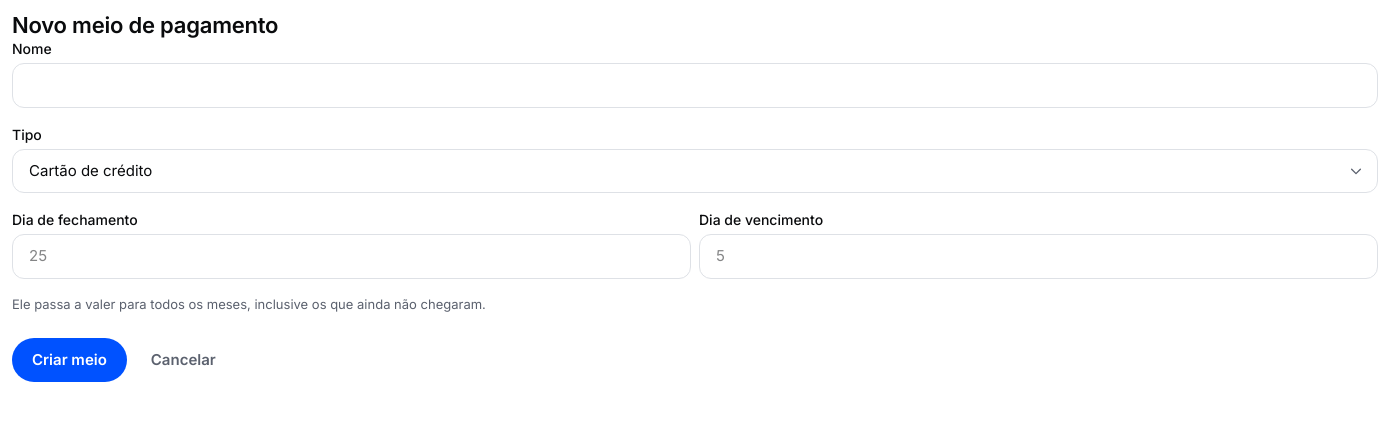
it: as regras no navegador (CADCOL-08, AC 3; L-029, L-041) › o nome vazio não chega ao servidor, e a mensagem fica junto do campo
Click the field labelled "Dia de fechamento".
click(352, 257)  # box x1=12 y1=234 x2=691 y2=279
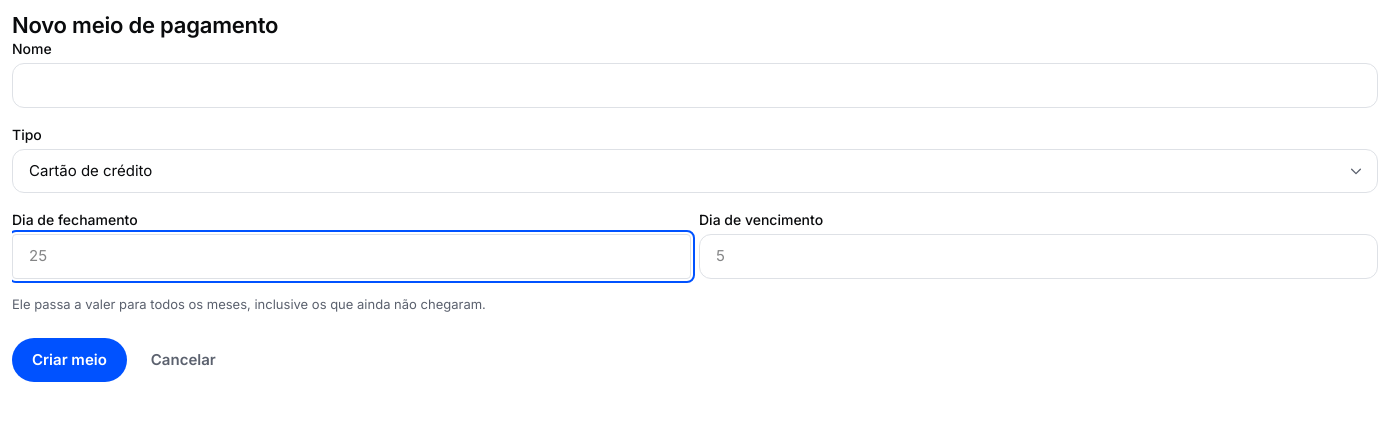
Type keys "25"
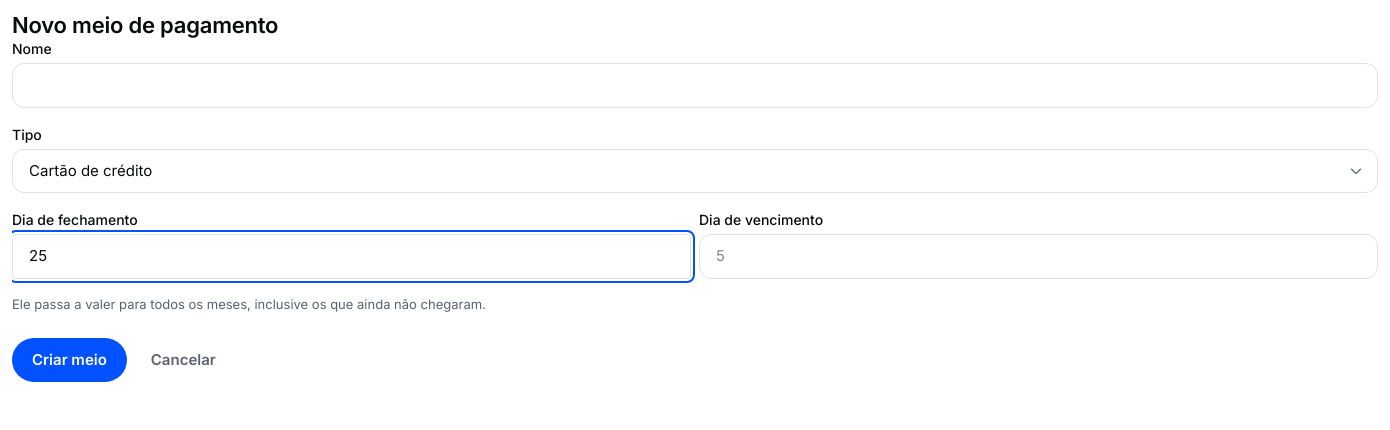
Click the field labelled "Dia de vencimento".
click(1038, 257)  # box x1=699 y1=234 x2=1378 y2=279
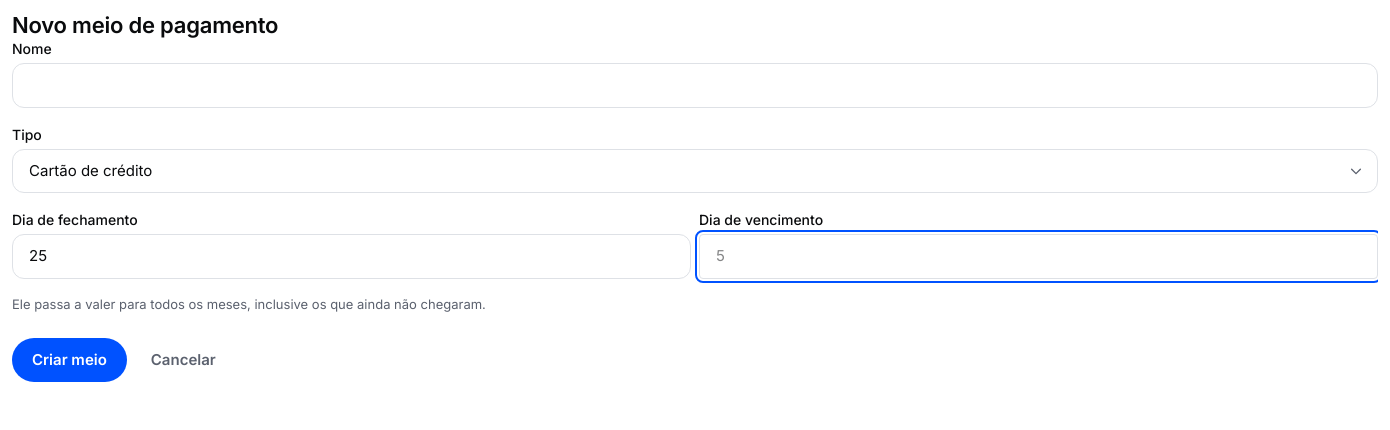
Type keys "5"
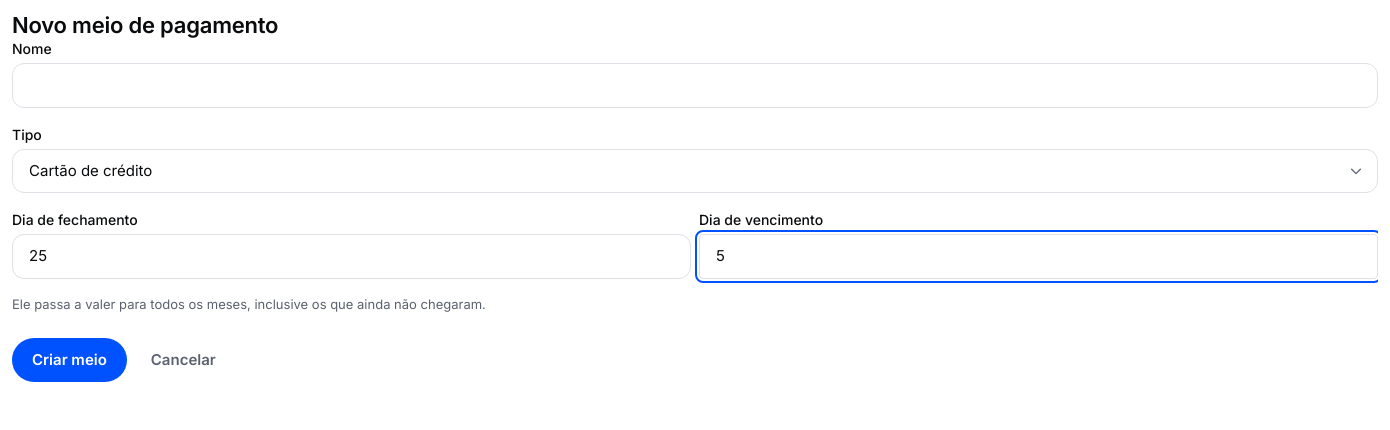
Click the button "Criar meio".
click(69, 360)  # box x1=12 y1=338 x2=127 y2=382
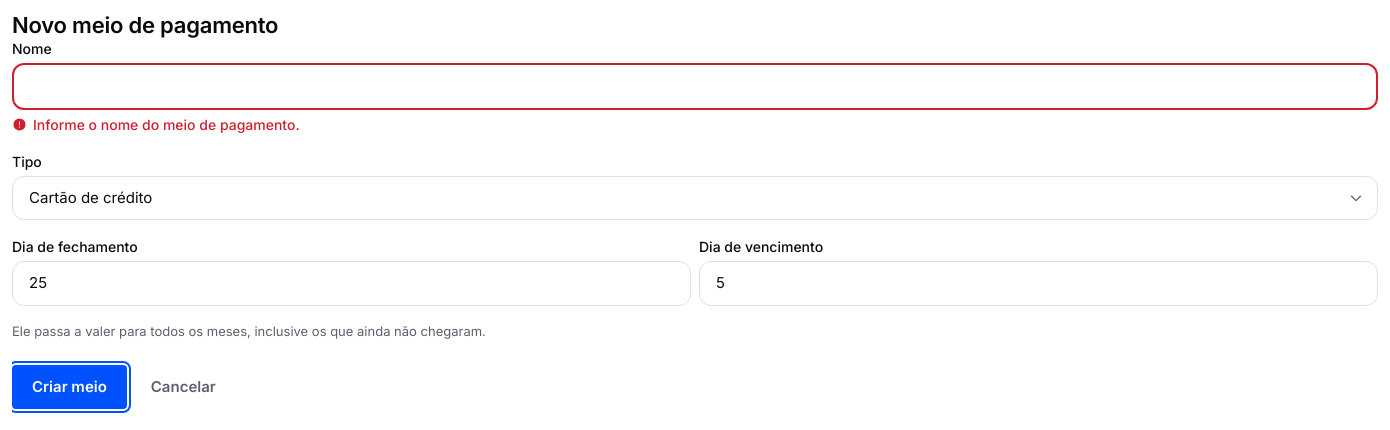
Check: the message reads "Informe o nome do meio de pagamento.", box x1=33 y1=116 x2=300 y2=133
